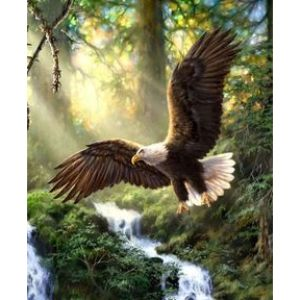eagle: (48, 27, 254, 214)
